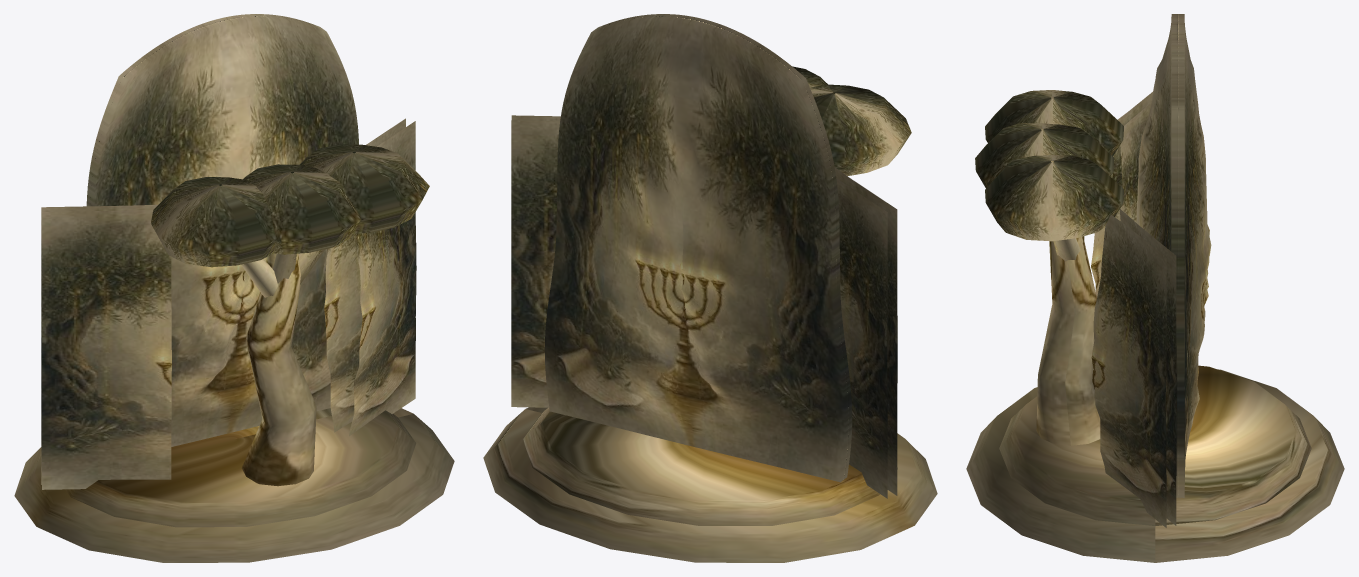
The model's file is the-day-of-small-things-28.glb.
3 views of the same model, side by side, from view 1: azimuth 30°, elevation 25°; view 2: azimuth 150°, elevation 25°; view 3: azimuth 270°, elevation 25° (orthographic). The views are drawn at different scales.
Parts seen in each view (by area): view 1: PaintingSculptureMonument; view 2: PaintingSculptureMonument; view 3: PaintingSculptureMonument.
Boxes of the visible parts, x1=… form: PaintingSculptureMonument: x1=14, y1=14, x2=454, y2=562; PaintingSculptureMonument: x1=483, y1=14, x2=937, y2=562; PaintingSculptureMonument: x1=966, y1=14, x2=1344, y2=562.
Size of the model in its own units: 2.76 by 2.99 by 2.35.
1 material, 1 textured.
